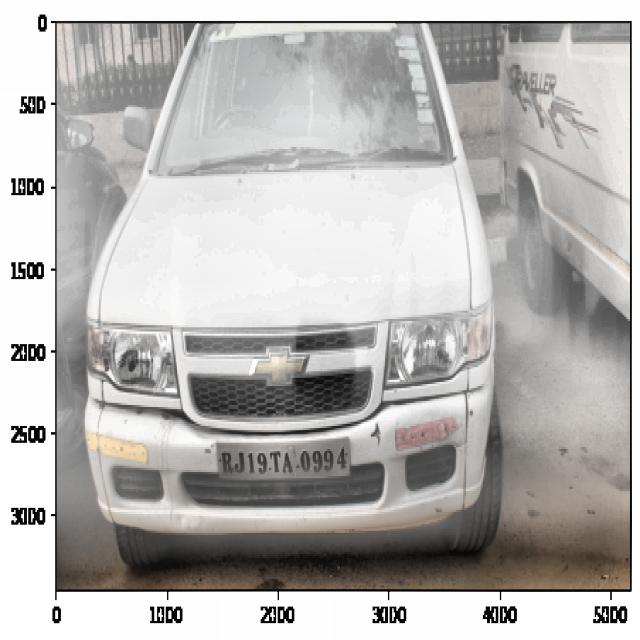license_plate: (219, 441, 351, 478)
